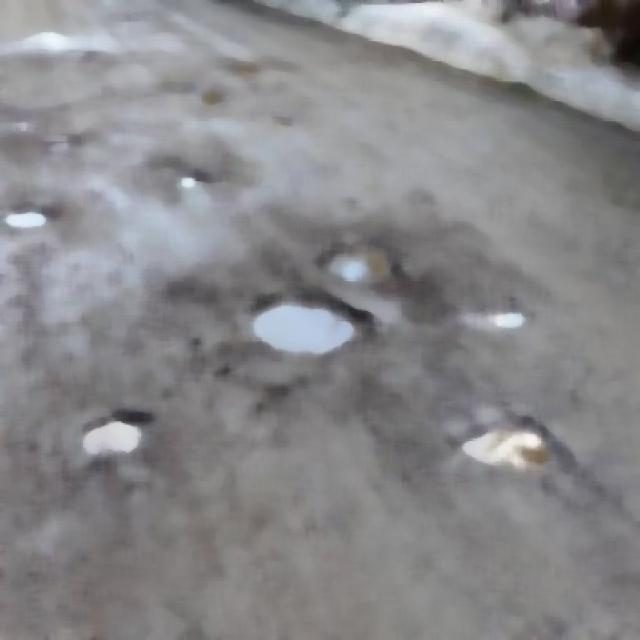Pothole: (242, 288, 380, 361), (462, 402, 572, 484), (461, 296, 548, 349), (80, 404, 148, 458), (326, 242, 408, 275), (0, 94, 42, 144), (0, 208, 58, 234), (177, 163, 214, 202), (182, 86, 230, 109), (67, 48, 98, 69), (50, 129, 78, 151), (233, 67, 267, 81), (272, 115, 292, 124)
